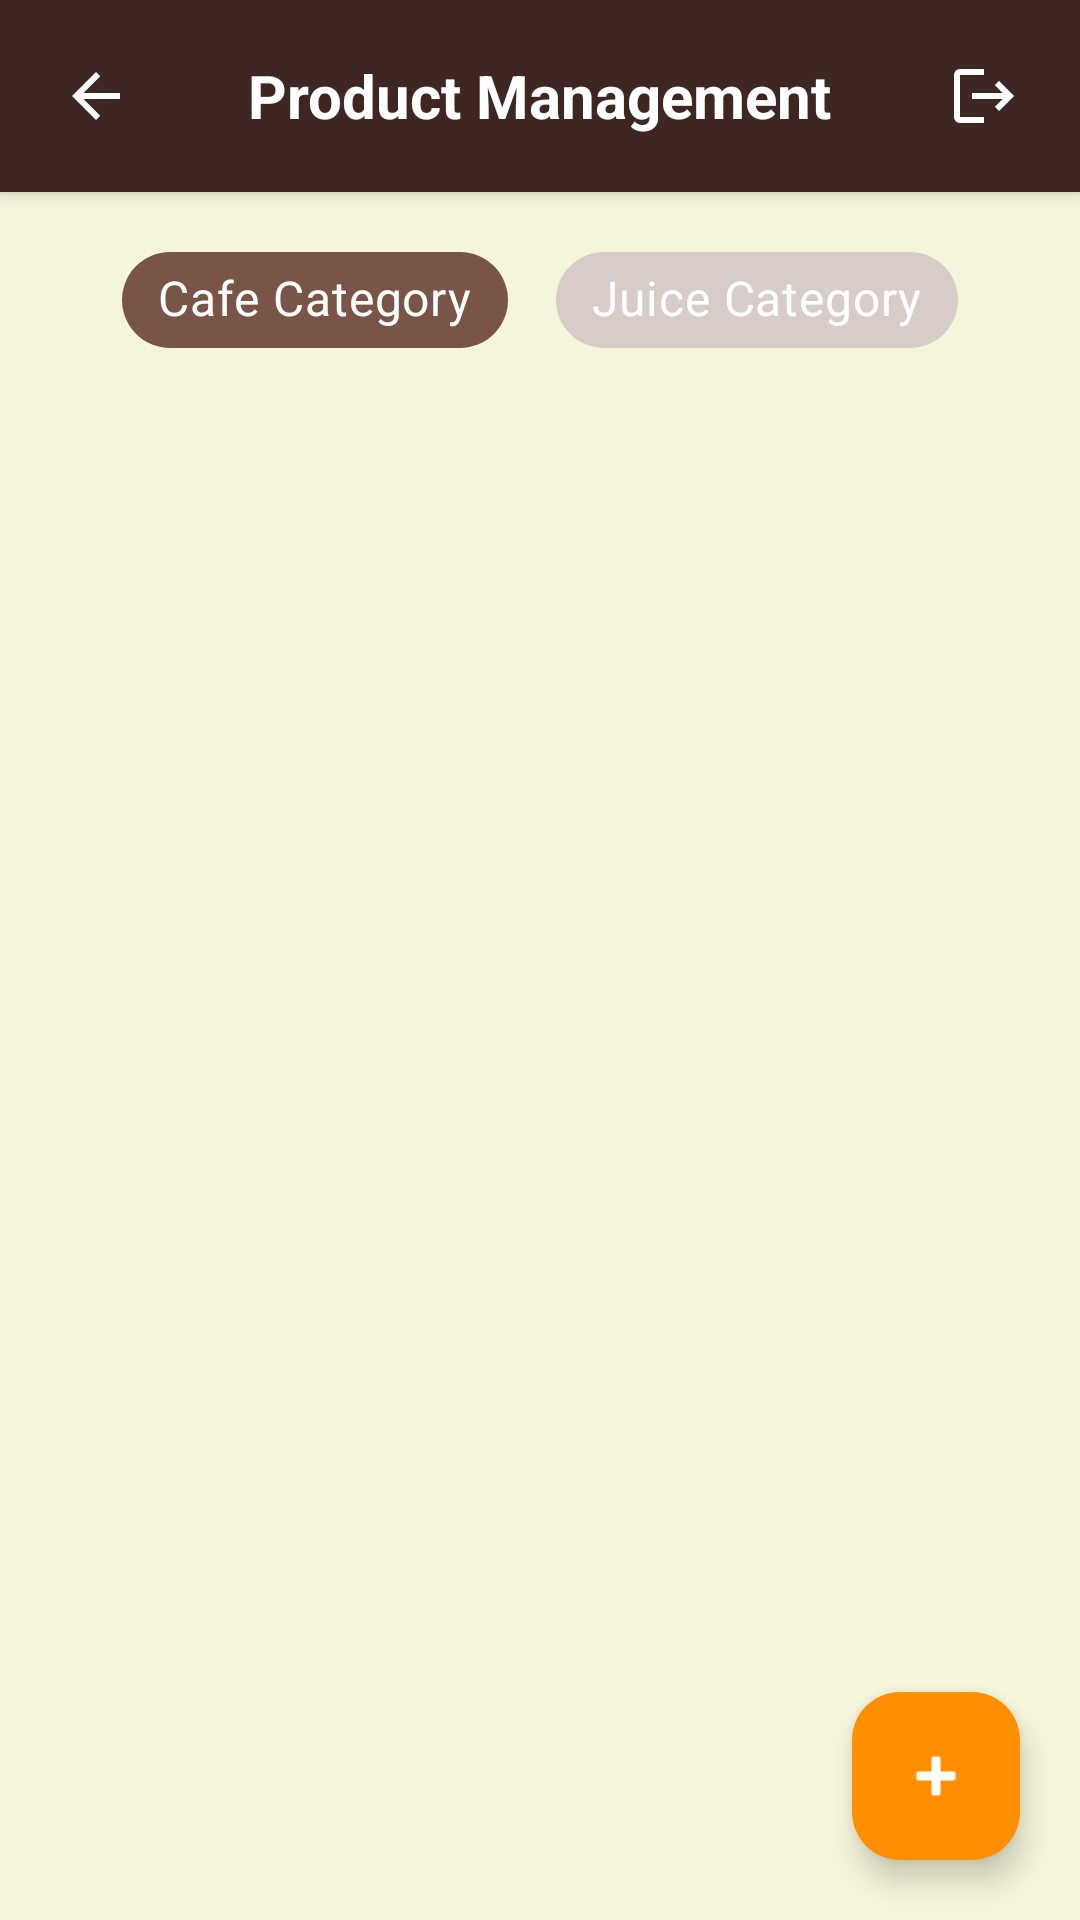

Icons on this 1080x1920 Android screen, each with its box as {"left": x1, "top": y1, "right": x2, "bottom": y2}:
add: {"left": 852, "top": 1692, "right": 1020, "bottom": 1860}
Back: {"left": 72, "top": 72, "right": 120, "bottom": 120}
